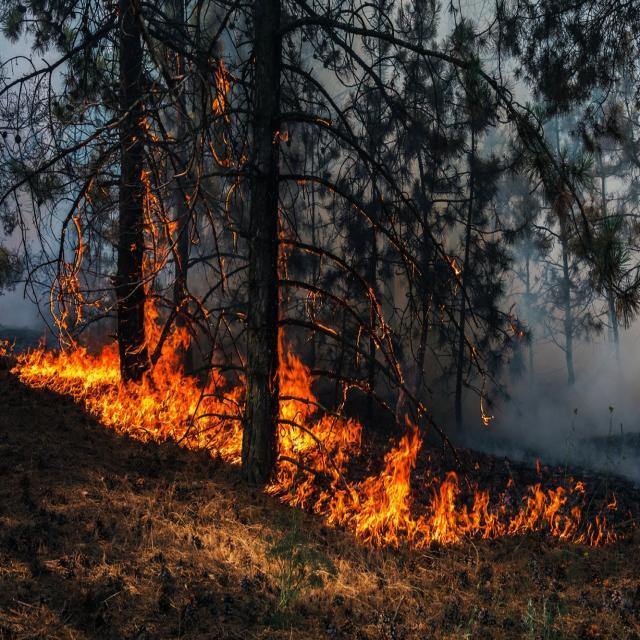Fire: (269, 335, 421, 546), (422, 472, 618, 544), (120, 370, 243, 464), (0, 337, 119, 428), (142, 170, 182, 367), (48, 214, 86, 336), (184, 296, 246, 366), (276, 209, 290, 333), (138, 100, 175, 146), (304, 286, 339, 333), (364, 282, 392, 334), (206, 134, 246, 170), (213, 56, 229, 120), (510, 311, 528, 338), (271, 126, 293, 148), (481, 394, 495, 426), (452, 258, 462, 276)
Smoke: (498, 342, 638, 468)
